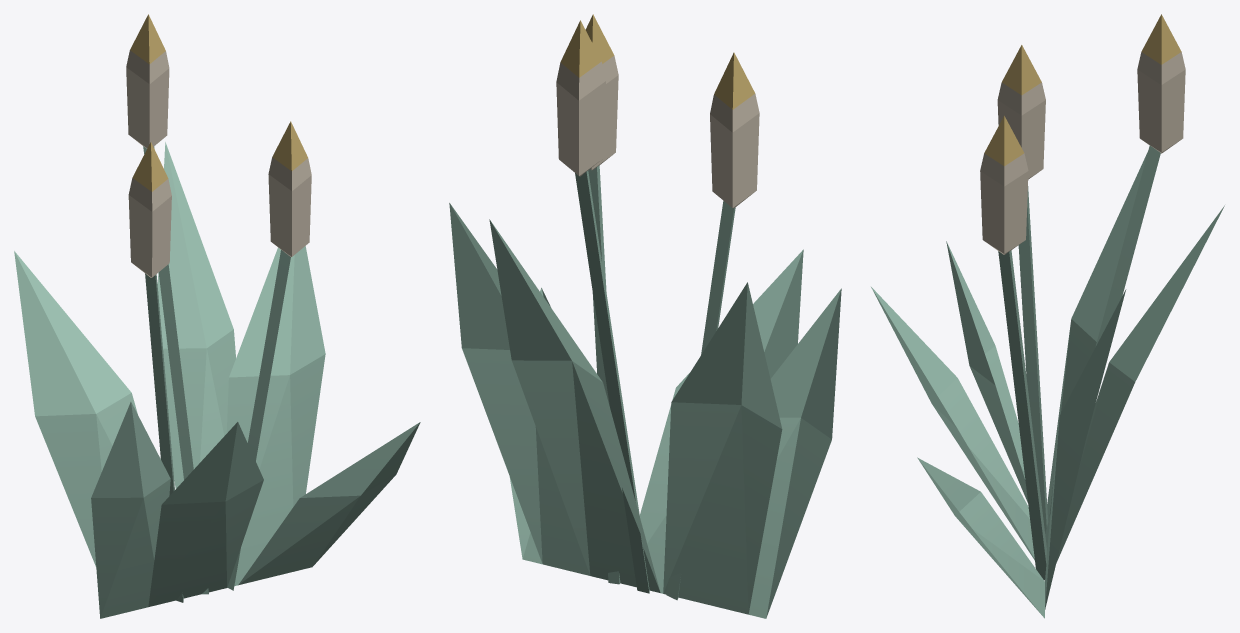
Rendered from reed.glb.
The picture shows the model from 3 angles, left to right: view 1: azimuth 30°, elevation 25°; view 2: azimuth 150°, elevation 25°; view 3: azimuth 270°, elevation 25°; orthographic projection. The views are drawn at different scales.
Visible parts, largest first — view 1: root_mesh; view 2: root_mesh; view 3: root_mesh.
Boxes of the visible parts, x1=… form: root_mesh: x1=14, y1=14, x2=420, y2=618; root_mesh: x1=449, y1=14, x2=841, y2=618; root_mesh: x1=871, y1=14, x2=1224, y2=618.
Bounding box in the file's own units: 0.4735 × 0.8 × 0.4662.
